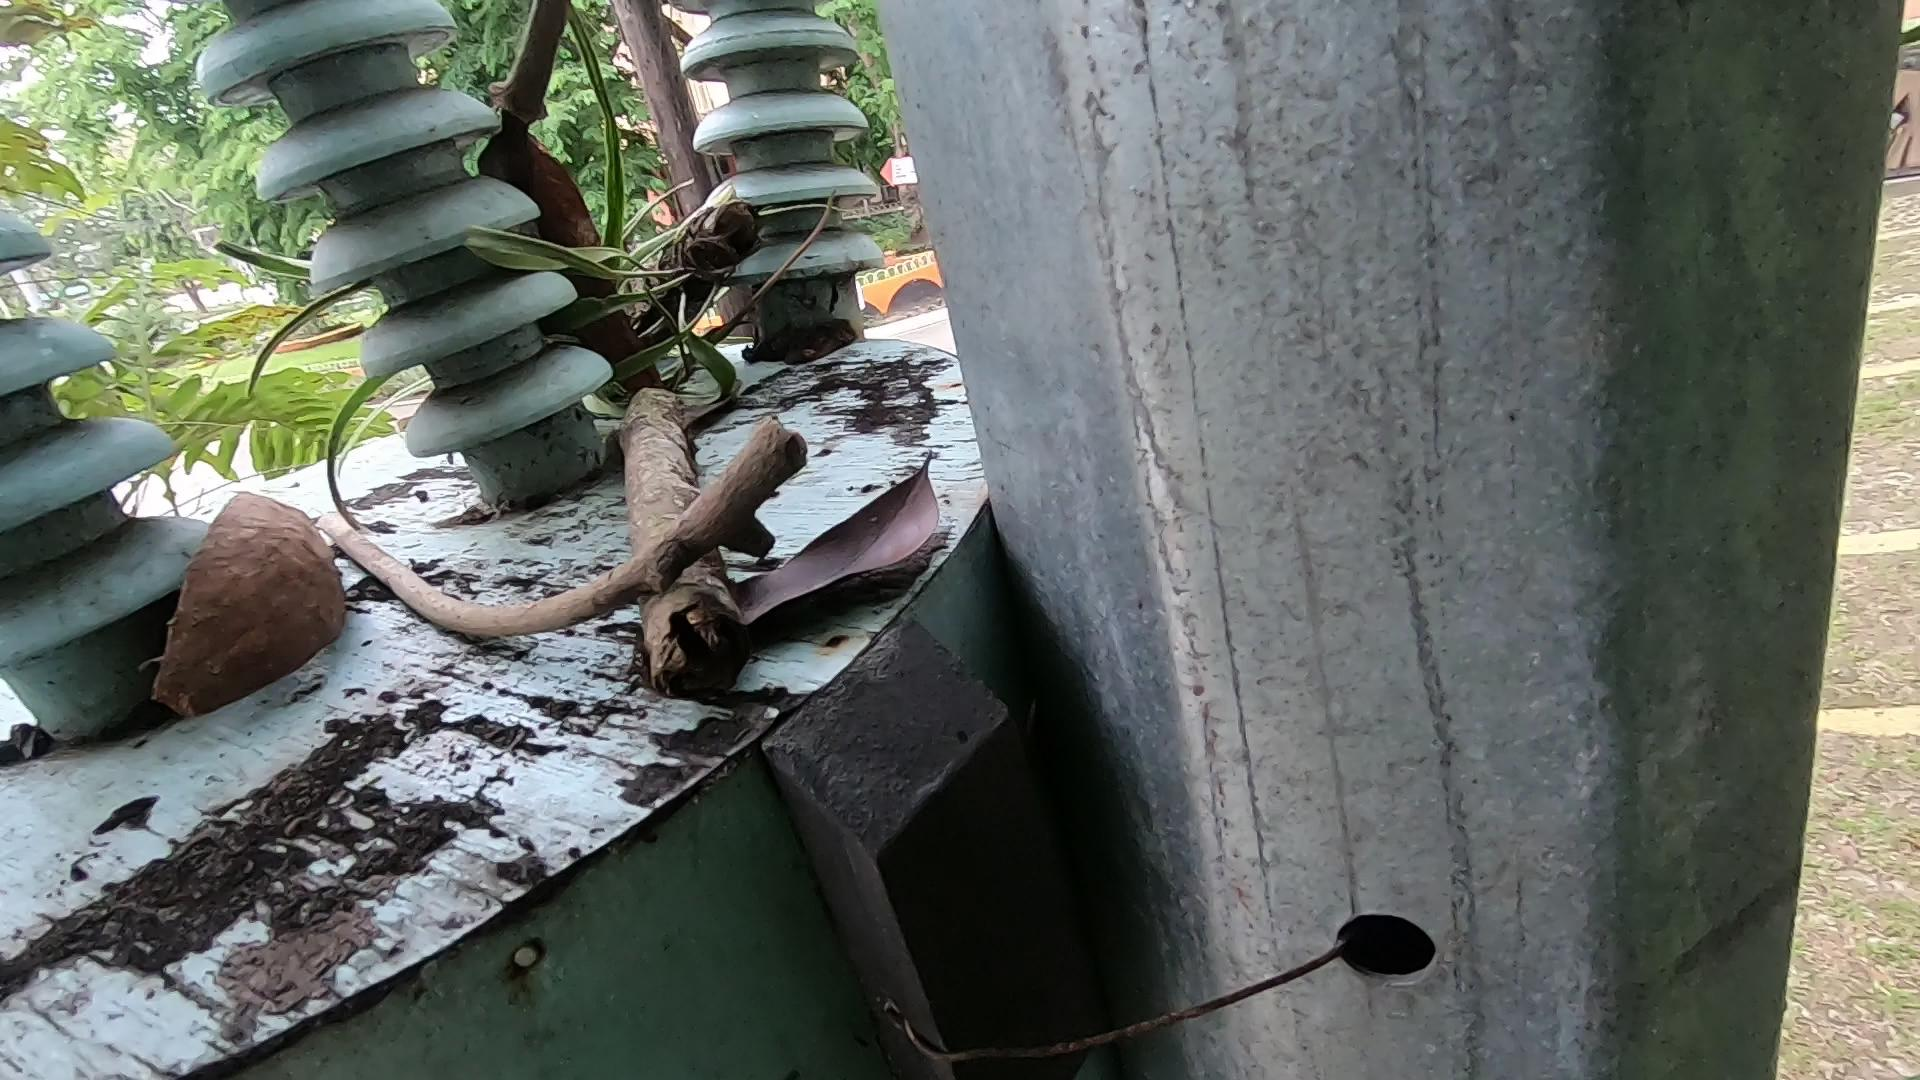branch with leaves: (481, 99, 841, 764)
leaf: (733, 520, 1054, 686)
mahogany fruit: (116, 459, 291, 756), (465, 107, 629, 367)
tree branch: (196, 382, 789, 667), (447, 9, 599, 160)
